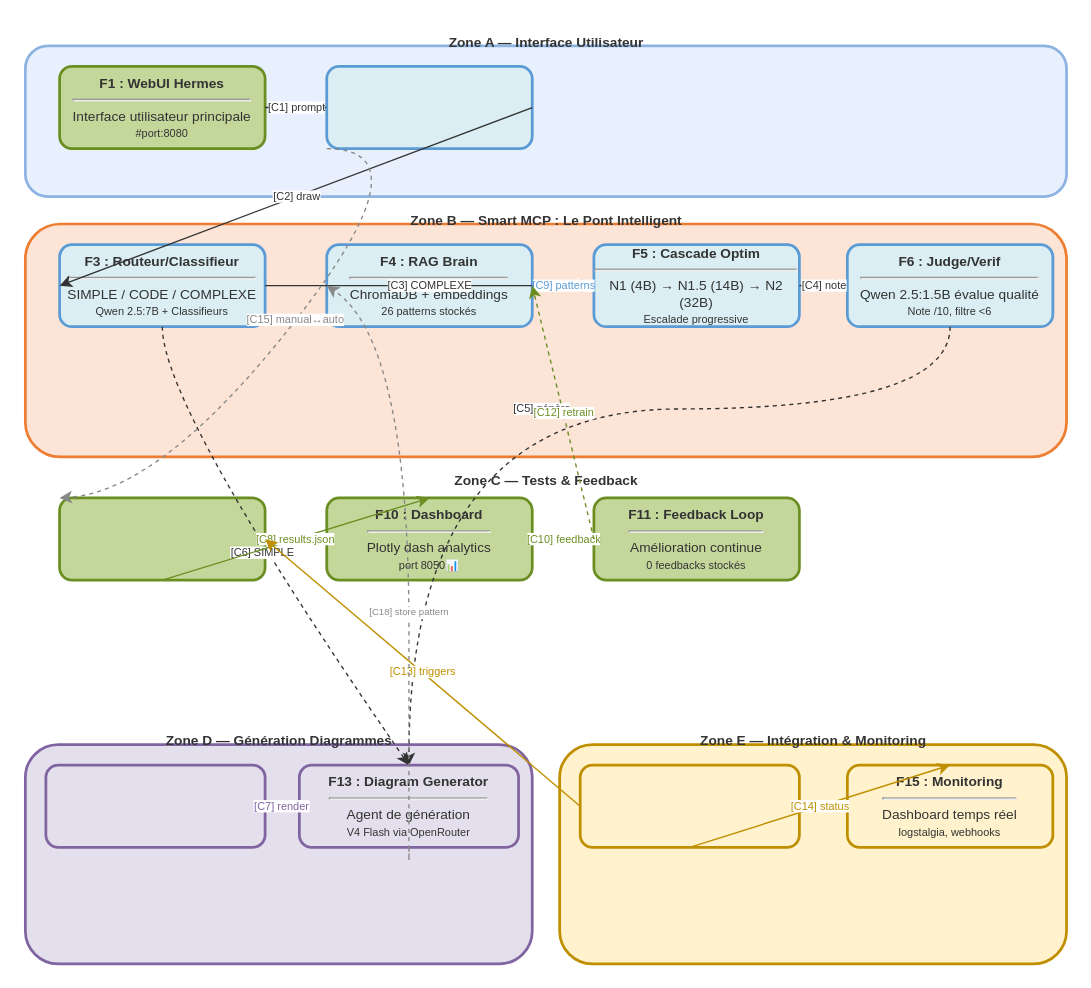
Image size: 1091x988. Some labels were removed from this diagram. Each missing label, with the centre of its shape:
"F12 : Drawio MCP Server Serveur local patché port 8080, bind 0.0.0.0" belongs at point 155,805.
"F14 : CI/CD Pipeline GitHub Actions lint + tests automatiques" belongs at point 689,805.
"F2 : Smart MCP Panel Ajouté au WebUI Toggle ✨ auto/manual" belongs at point 429,106.
"F9 : Test Runner test_runner.py ~200 tests automatisés" belongs at point 162,538.
